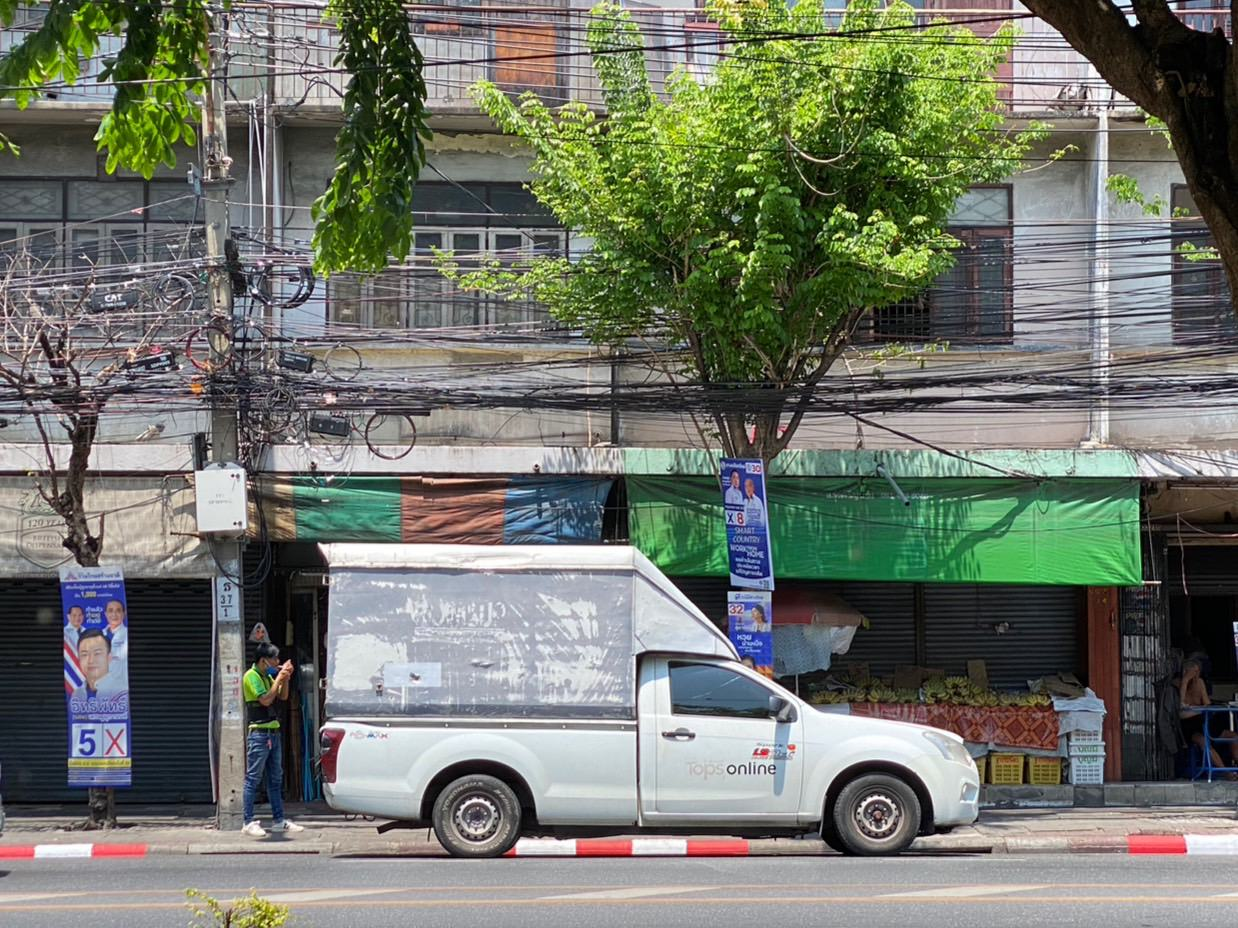Banner: (55, 561, 142, 785), (712, 448, 785, 593)
